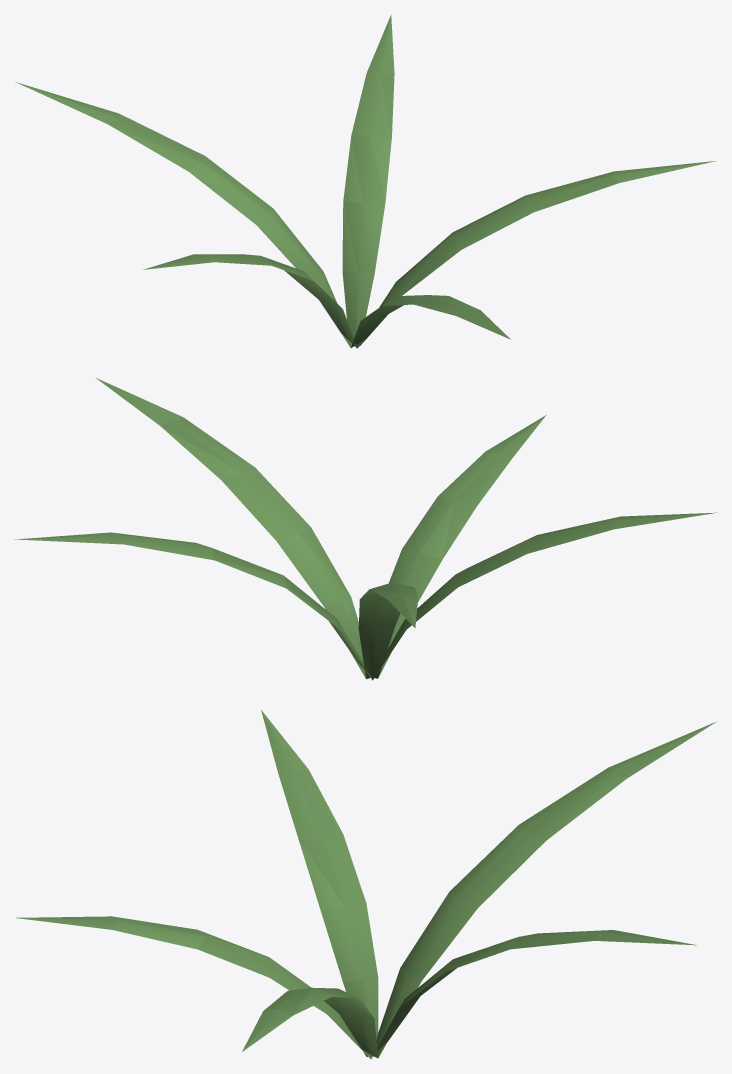
File: crop-garlic-young.glb
3 renders of one model, top to bottom at view 1: azimuth 30°, elevation 25°; view 2: azimuth 150°, elevation 25°; view 3: azimuth 270°, elevation 25°, orthographic. The views are drawn at different scales.
Visible parts, largest first — view 1: crop-garlic-young-kit; view 2: crop-garlic-young-kit; view 3: crop-garlic-young-kit.
Part boxes in pixels (bbox=[...]): crop-garlic-young-kit: bbox=[15, 14, 715, 348]; crop-garlic-young-kit: bbox=[14, 377, 716, 680]; crop-garlic-young-kit: bbox=[16, 710, 716, 1059].
Size of the model in its own units: 0.7584 by 0.257 by 0.7125.
